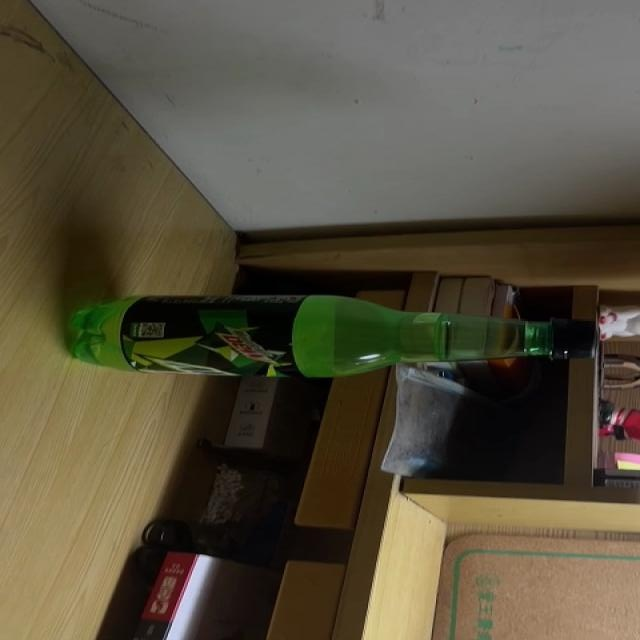Mountain-Dew: (67, 295, 600, 380)
